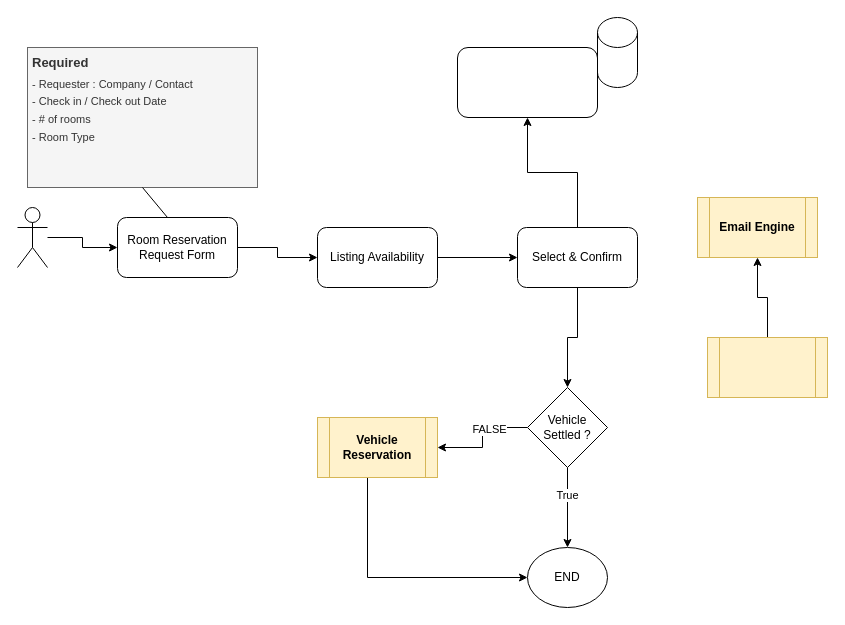
This 845x625 diagram has some shape labels left out. The box of each missing label's shape, as (x1, y1, x2, y2) in pixels:
Actor: (16, 206, 48, 268)
Hotels: (596, 16, 638, 88)
TemplateMgr: (706, 336, 828, 398)
Update Stock / Status: (456, 46, 598, 118)
